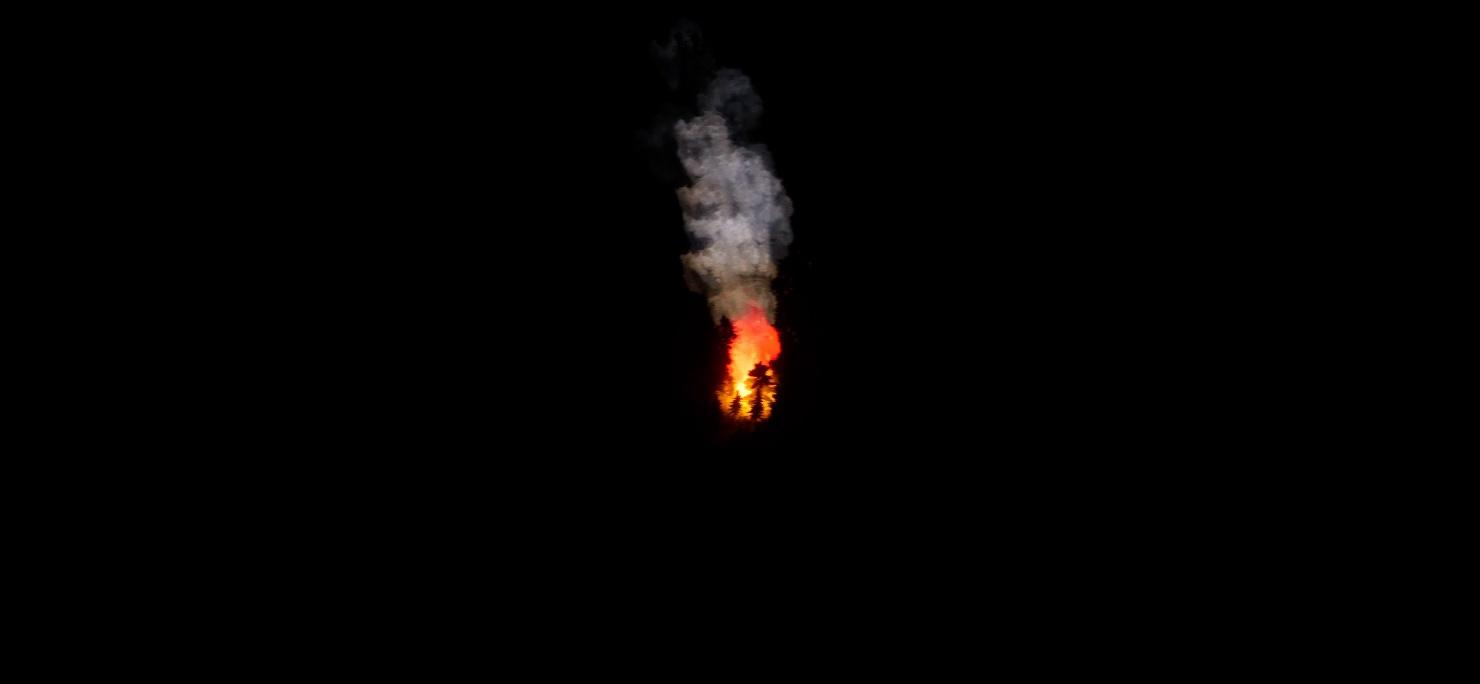fire: (718, 306, 782, 417)
smoke: (672, 81, 785, 306)
